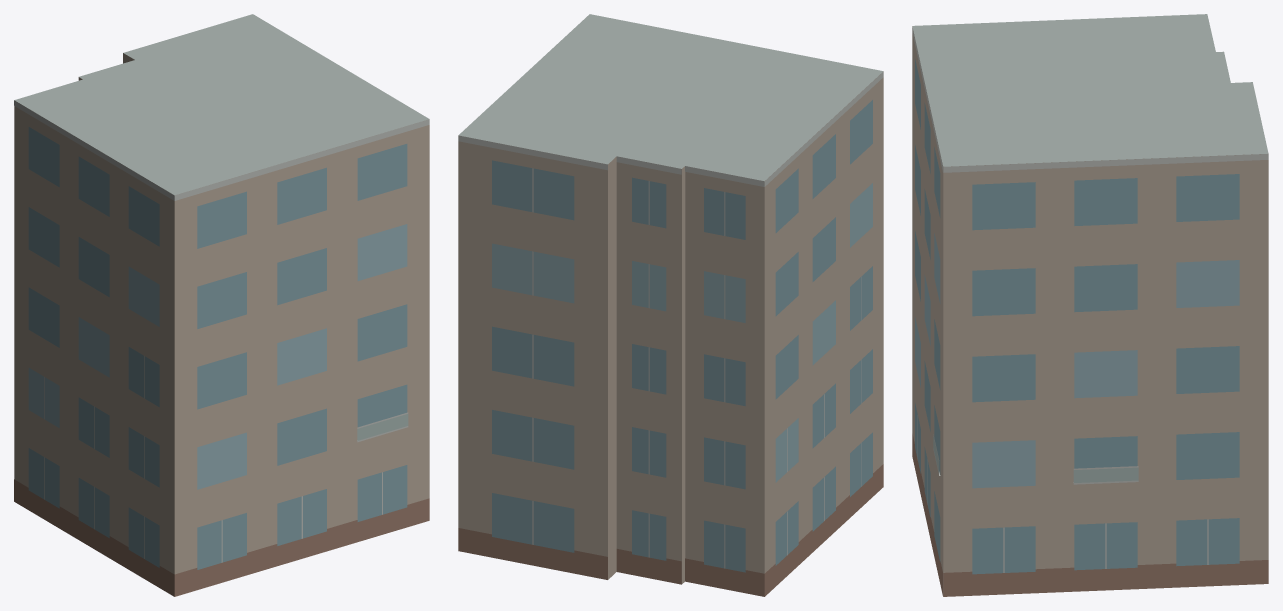
The model's file is survey-upis-32562086.glb.
3 views of the same model, side by side, from view 1: azimuth 30°, elevation 25°; view 2: azimuth 150°, elevation 25°; view 3: azimuth 270°, elevation 25° (orthographic). The views are drawn at different scales.
Visible parts, largest first — view 1: survey-upis-32562086.tmp; view 2: survey-upis-32562086.tmp; view 3: survey-upis-32562086.tmp.
Boxes of the visible parts, x1,y1,x2,y2 form: survey-upis-32562086.tmp: (14,14,429,596); survey-upis-32562086.tmp: (458,14,883,596); survey-upis-32562086.tmp: (912,14,1268,596).
Bounding box in the file's own units: 13.19 × 17.3 × 13.
